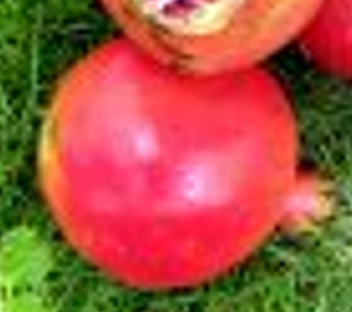pomegranate_A: (33, 30, 337, 292)
